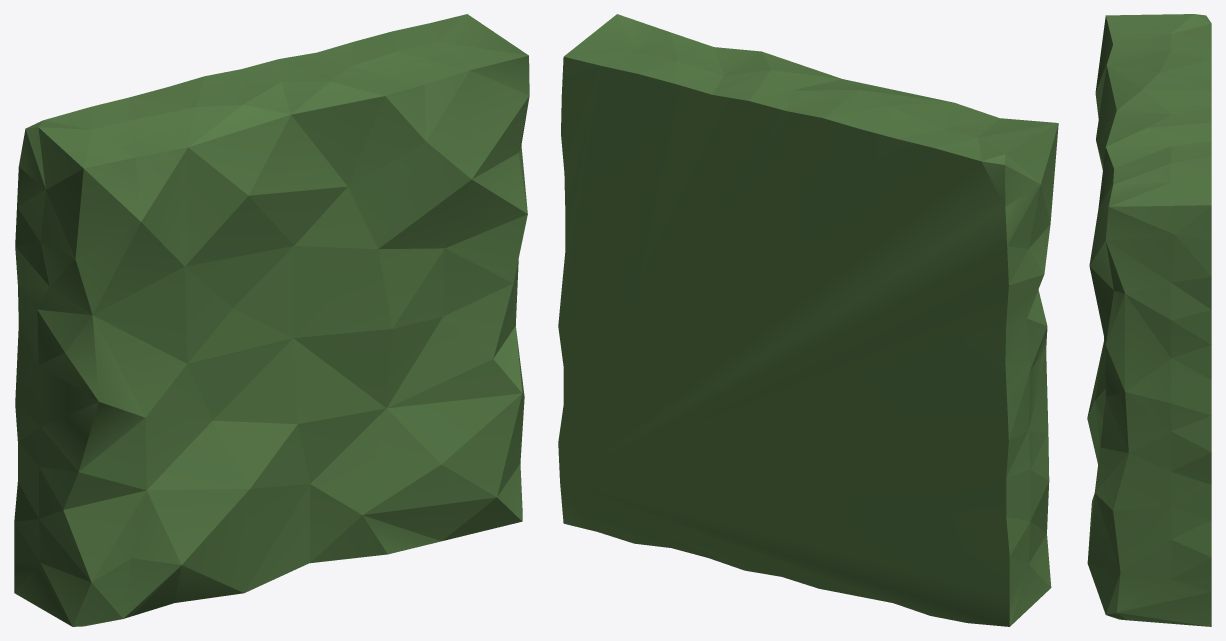
The model's file is Bush.fbx.
3 renders of one model, left to right at view 1: azimuth 30°, elevation 25°; view 2: azimuth 150°, elevation 25°; view 3: azimuth 270°, elevation 25°, orthographic. The views are drawn at different scales.
Parts seen in each view (by area): view 1: Bush; view 2: Bush; view 3: Bush.
Boxes of the visible parts, x1,y1,x2,y2 form: Bush: (14,14,529,626); Bush: (558,14,1058,626); Bush: (1087,14,1211,626).
Bounding box in the file's own units: 99.8 × 26.39 × 99.8.
